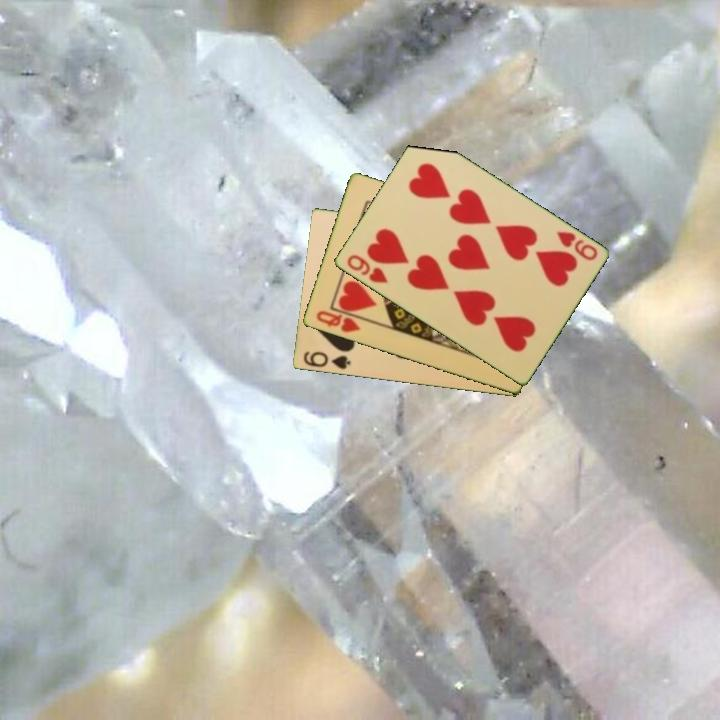6s: (300, 348, 353, 373)
9h: (552, 228, 600, 264), (343, 251, 391, 286)
Qh: (312, 307, 363, 336)
